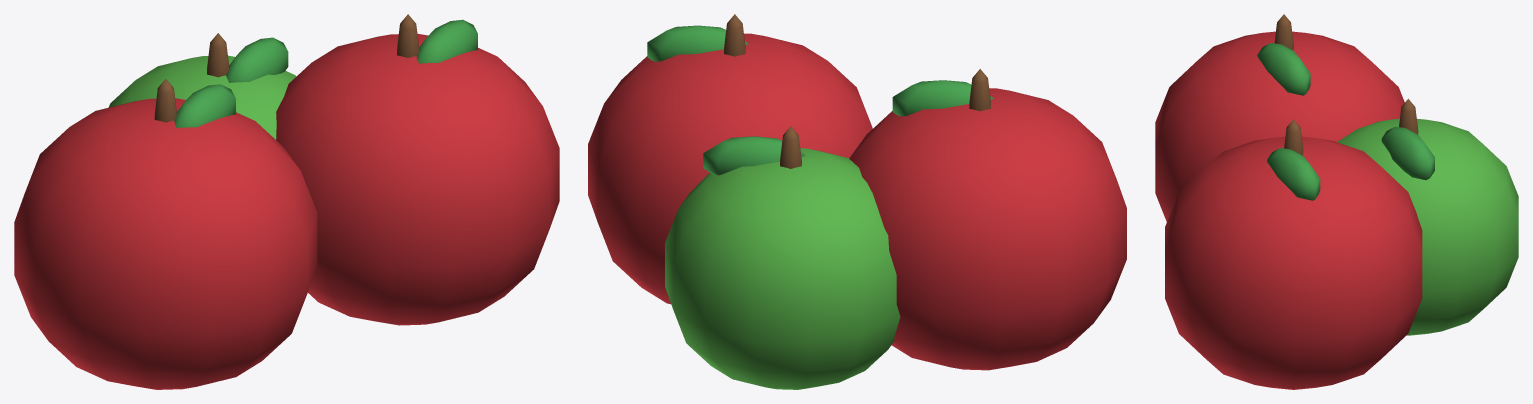
Rendered from apples.glb.
3 views of the same model, side by side, from view 1: azimuth 30°, elevation 25°; view 2: azimuth 150°, elevation 25°; view 3: azimuth 270°, elevation 25° (orthographic). The views are drawn at different scales.
Visible parts, largest first — view 1: item; view 2: item; view 3: item.
Part boxes in pixels (x1,y1,x2,y2): item: [14, 14, 559, 389]; item: [588, 14, 1126, 389]; item: [1155, 14, 1518, 389].
Size of the model in its own units: 0.5362 by 0.2954 by 0.38.
1 material, 1 textured.
